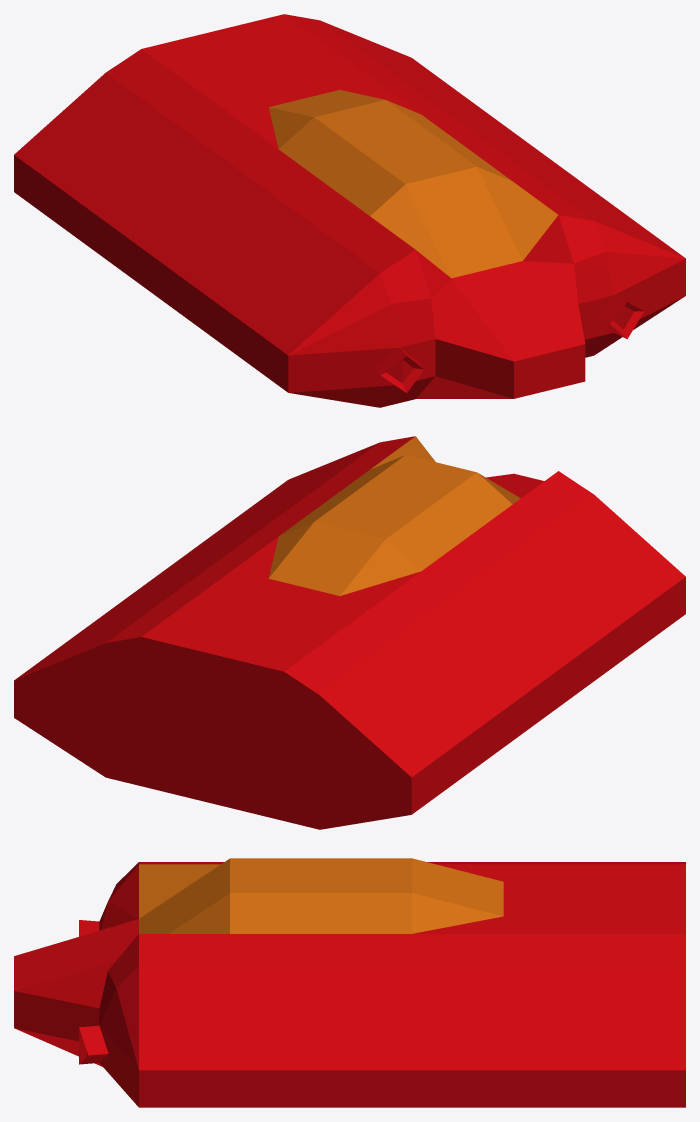
Rendered from class_1_ship.fbx.
3 renders of one model, top to bottom at view 1: azimuth 30°, elevation 25°; view 2: azimuth 150°, elevation 25°; view 3: azimuth 270°, elevation 25°, orthographic.
Visible parts, largest first — view 1: Cube; view 2: Cube; view 3: Cube.
Part boxes in pixels (x1,y1,x2,y2): Cube: (14, 14, 685, 407); Cube: (14, 436, 685, 829); Cube: (14, 858, 685, 1107).
Size of the model in its own units: 371 by 154 by 545.
